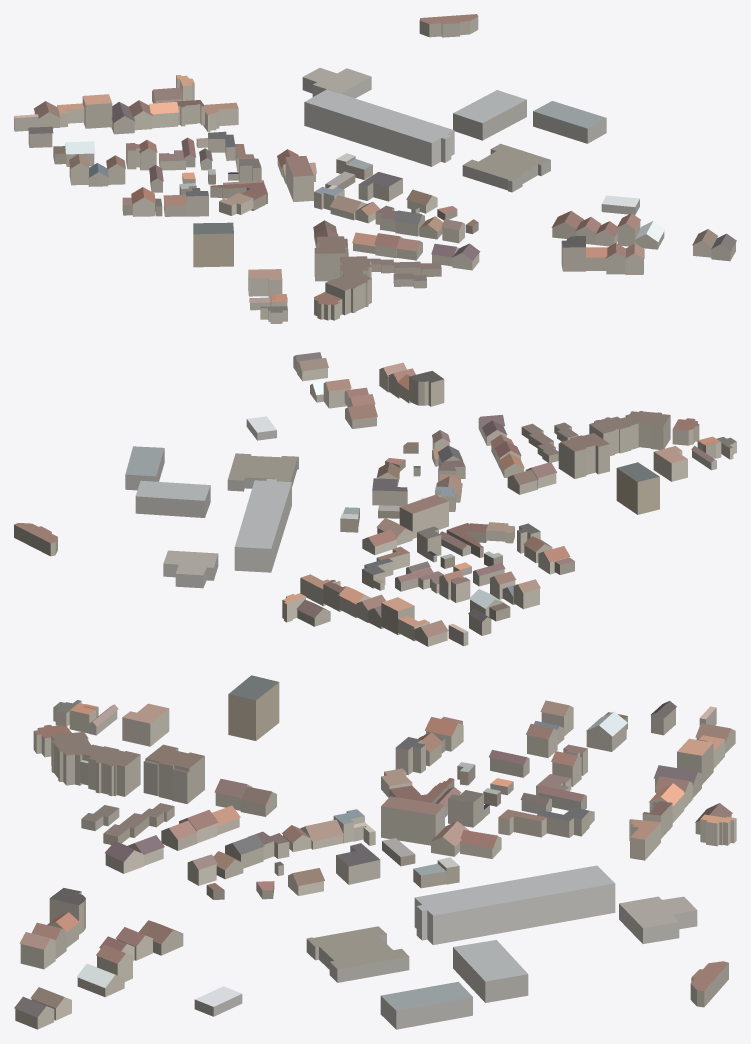
The picture shows the model from 3 angles, top to bottom: view 1: azimuth 30°, elevation 25°; view 2: azimuth 150°, elevation 25°; view 3: azimuth 270°, elevation 25°; orthographic projection. The views are drawn at different scales.
Visible parts, largest first — view 1: tuile; view 2: tuile; view 3: tuile.
Boxes of the visible parts, bbox=[...] form: tuile: bbox=[14, 14, 736, 323]; tuile: bbox=[14, 352, 736, 646]; tuile: bbox=[14, 675, 736, 1029].
Bounding box in the file's own units: 247 × 32.96 × 264.
